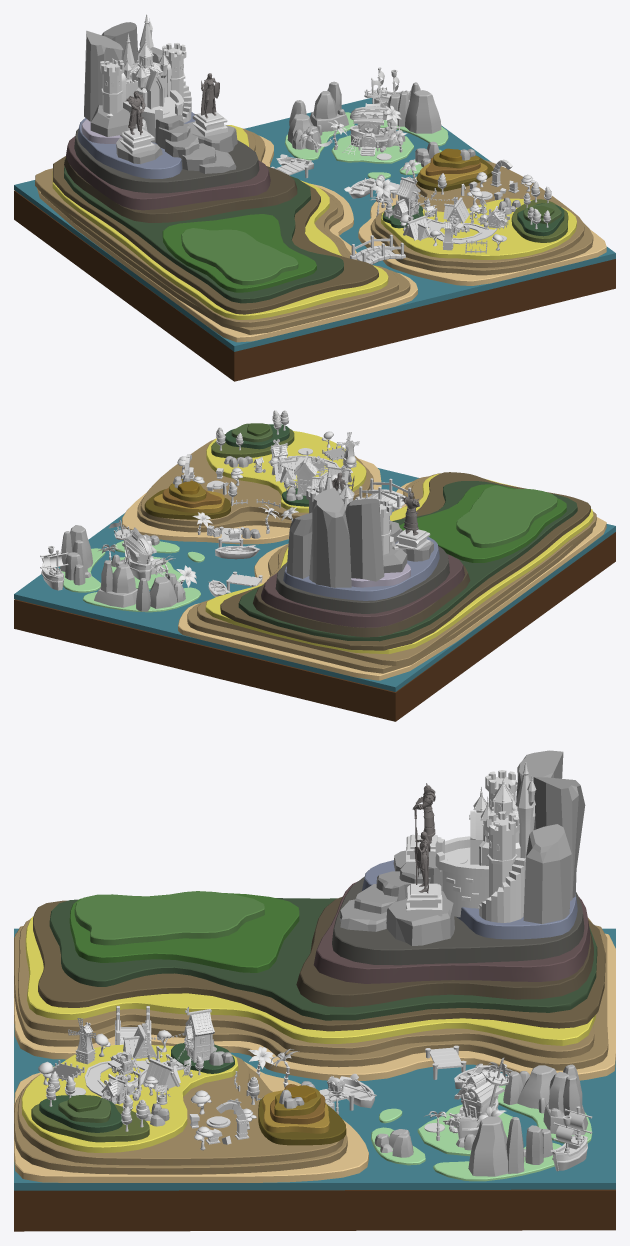
The model's file is KingdomOfTheWicked_14_02.fbx.
3 views of the same model, one above another, from view 1: azimuth 30°, elevation 25°; view 2: azimuth 150°, elevation 25°; view 3: azimuth 270°, elevation 25° (orthographic). The views are drawn at different scales.
Parts seen in each view (by area): view 1: Cube.044, Cube, Cube.146, Cube.148, Cube.017, Cube.016, Cube.147, Cube.045, Cube.022, Cube.021, Cube.018, Cube.030 (+31 smaller); view 2: Cube.044, Cube, Cube.146, Cube.148, Cube.017, Cube.147, Cube.016, Cube.022, Cube.021, Circle.025, Cube.023, Cube.045 (+23 smaller); view 3: Cube.044, Cube, Cube.146, Cube.016, Cube.147, Cube.148, Cube.017, Cube.045, Cube.022, Cube.021, Cube.030, Cube.003 (+40 smaller).
Part boxes in pixels (bbox=[...]): Cube.044: bbox=[14, 190, 615, 381]; Cube: bbox=[14, 98, 615, 351]; Cube.146: bbox=[35, 128, 584, 327]; Cube.148: bbox=[37, 135, 606, 342]; Cube.017: bbox=[53, 156, 378, 314]; Cube.016: bbox=[64, 160, 343, 303]; Cube.147: bbox=[40, 130, 593, 334]; Cube.045: bbox=[52, 125, 388, 319]; Cube.022: bbox=[181, 228, 298, 285]; Cube.021: bbox=[162, 214, 316, 292]; Cube.018: bbox=[381, 198, 576, 259]; Cube.030: bbox=[74, 113, 259, 193]; Cube.044: bbox=[14, 532, 615, 721]; Cube: bbox=[14, 468, 615, 691]; Cube.146: bbox=[140, 439, 596, 665]; Cube.148: bbox=[122, 458, 606, 680]; Cube.017: bbox=[220, 472, 590, 650]; Cube.147: bbox=[137, 461, 593, 673]; Cube.016: bbox=[238, 481, 577, 641]; Cube.022: bbox=[456, 485, 557, 548]; Cube.021: bbox=[399, 484, 566, 562]; Circle.025: bbox=[309, 487, 351, 587]; Cube.023: bbox=[261, 554, 464, 627]; Cube.045: bbox=[205, 473, 593, 654]; Cube.044: bbox=[14, 1189, 615, 1231]; Cube: bbox=[14, 928, 615, 1190]; Cube.146: bbox=[17, 918, 594, 1165]; Cube.016: bbox=[49, 898, 597, 1020]; Cube.147: bbox=[14, 925, 608, 1174]; Cube.148: bbox=[14, 933, 615, 1182]; Cube.017: bbox=[33, 900, 605, 1031]; Cube.045: bbox=[25, 916, 595, 1045]; Cube.022: bbox=[74, 891, 264, 945]; Cube.021: bbox=[69, 893, 299, 972]; Cube.030: bbox=[332, 876, 584, 965]; Cube.003: bbox=[296, 896, 593, 1007].
Bounding box in the file's own units: 237 × 122 × 237.
